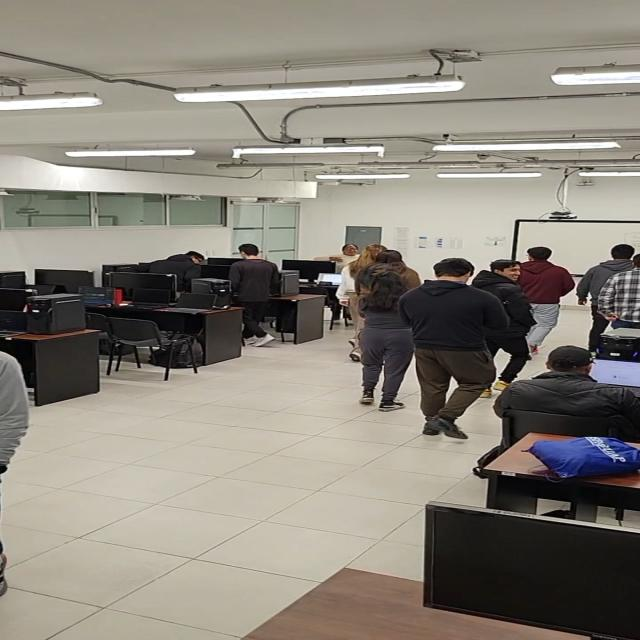Persona: (410, 255, 482, 442), (351, 272, 407, 416), (482, 259, 532, 395), (523, 244, 575, 358), (228, 242, 278, 349), (583, 245, 629, 334)
